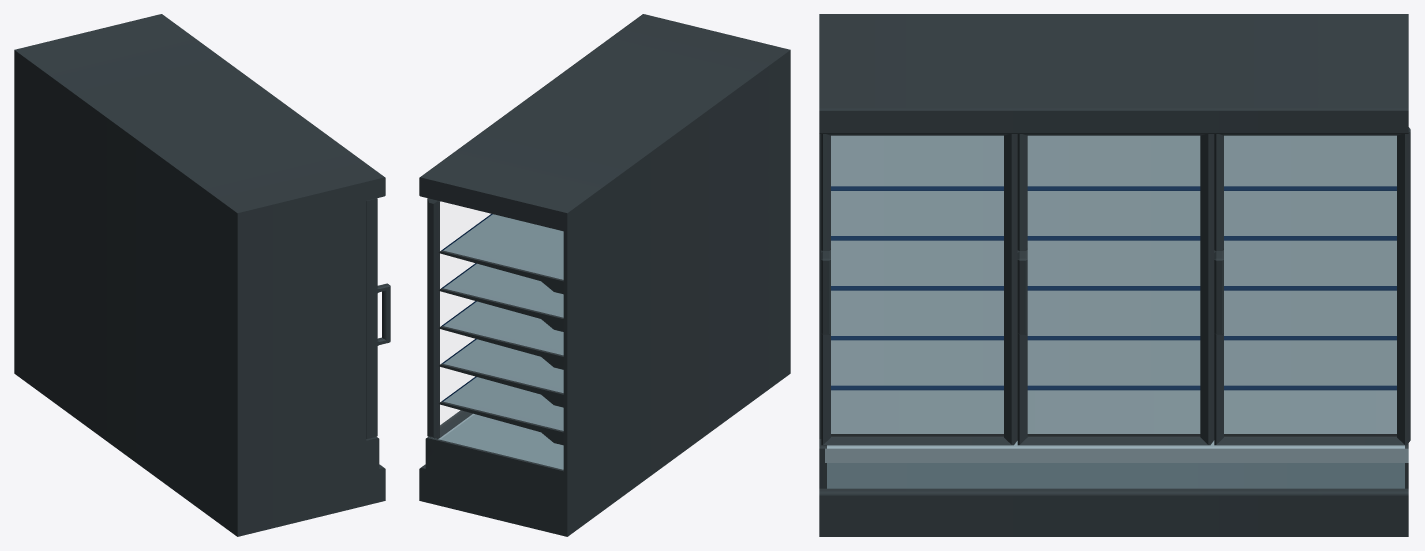
Rendered from Freezer_Left_5row.glb.
The picture shows the model from 3 angles, left to right: view 1: azimuth 30°, elevation 25°; view 2: azimuth 150°, elevation 25°; view 3: azimuth 270°, elevation 25°; orthographic projection. The views are drawn at different scales.
Parts seen in each view (by area): view 1: Freezer_Left_5row; view 2: Freezer_Left_5row; view 3: Freezer_Left_5row.
Boxes of the visible parts, x1=… form: Freezer_Left_5row: x1=14, y1=14, x2=390, y2=536; Freezer_Left_5row: x1=419, y1=14, x2=790, y2=536; Freezer_Left_5row: x1=819, y1=14, x2=1410, y2=536.
Size of the model in its own units: 1.2 by 2.4 by 3.01.
3 materials, 2 textured.
